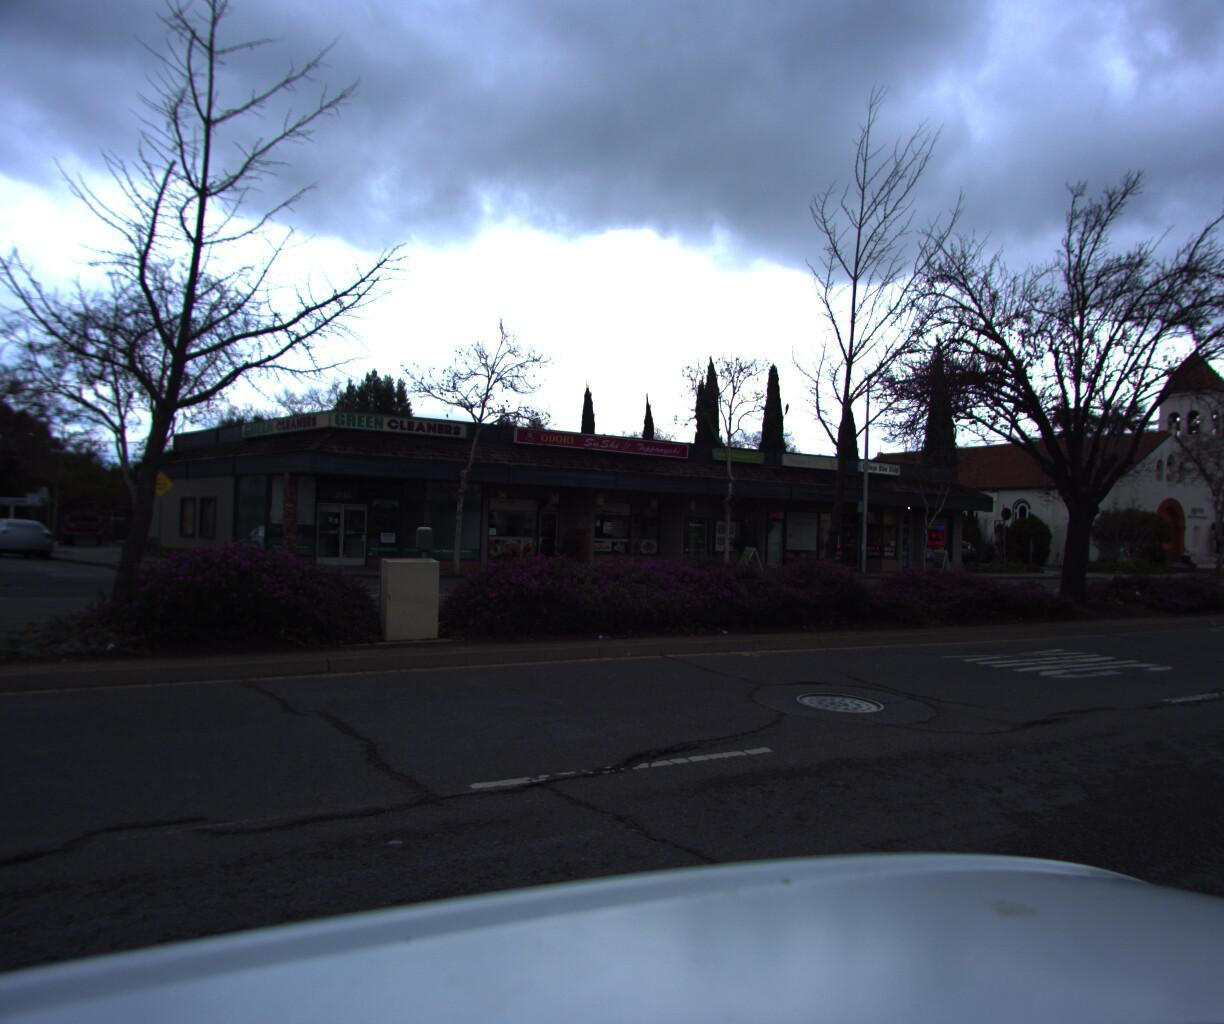car: (0, 513, 64, 558), (62, 506, 109, 543)
